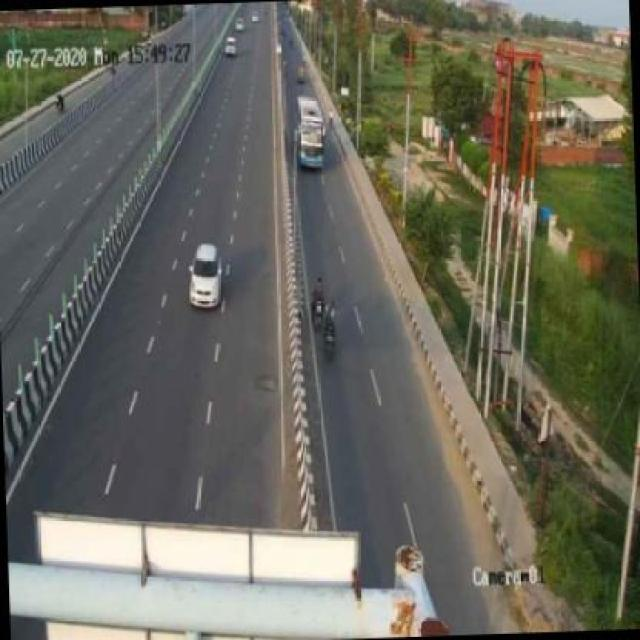car: (185, 235, 229, 314)
